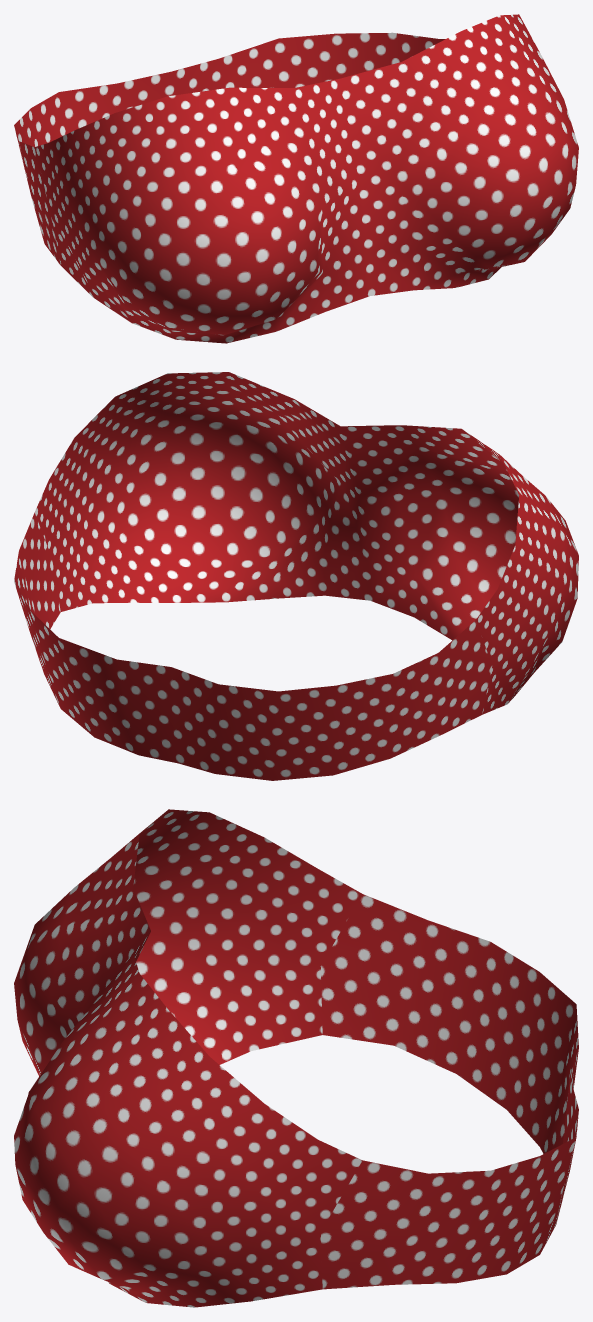
File: Top.dae
3 renders of one model, top to bottom at view 1: azimuth 30°, elevation 25°; view 2: azimuth 150°, elevation 25°; view 3: azimuth 270°, elevation 25°, orthographic. The views are drawn at different scales.
Parts seen in each view (by area): view 1: Top; view 2: Top; view 3: Top.
Part boxes in pixels (box(x1,y1,x2,y2)): Top: box(14, 14, 578, 343); Top: box(14, 372, 578, 780); Top: box(14, 809, 578, 1307).
Size of the model in its own units: 0.2956 by 0.2537 by 0.149.
